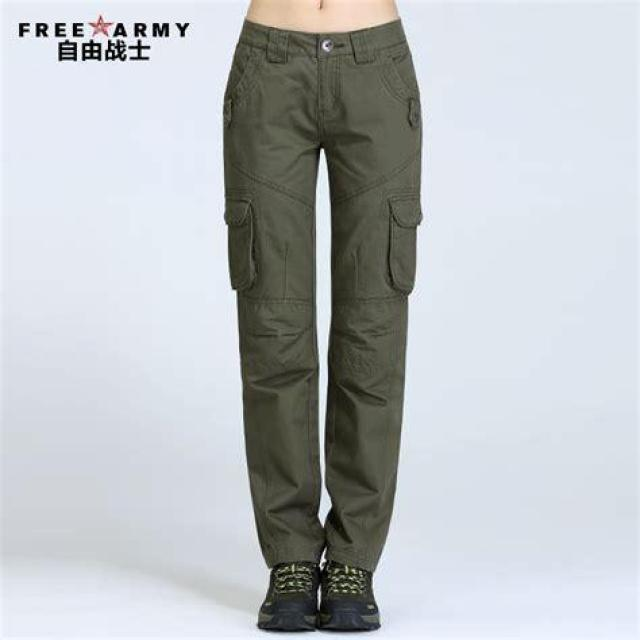pants: (222, 18, 422, 572)
